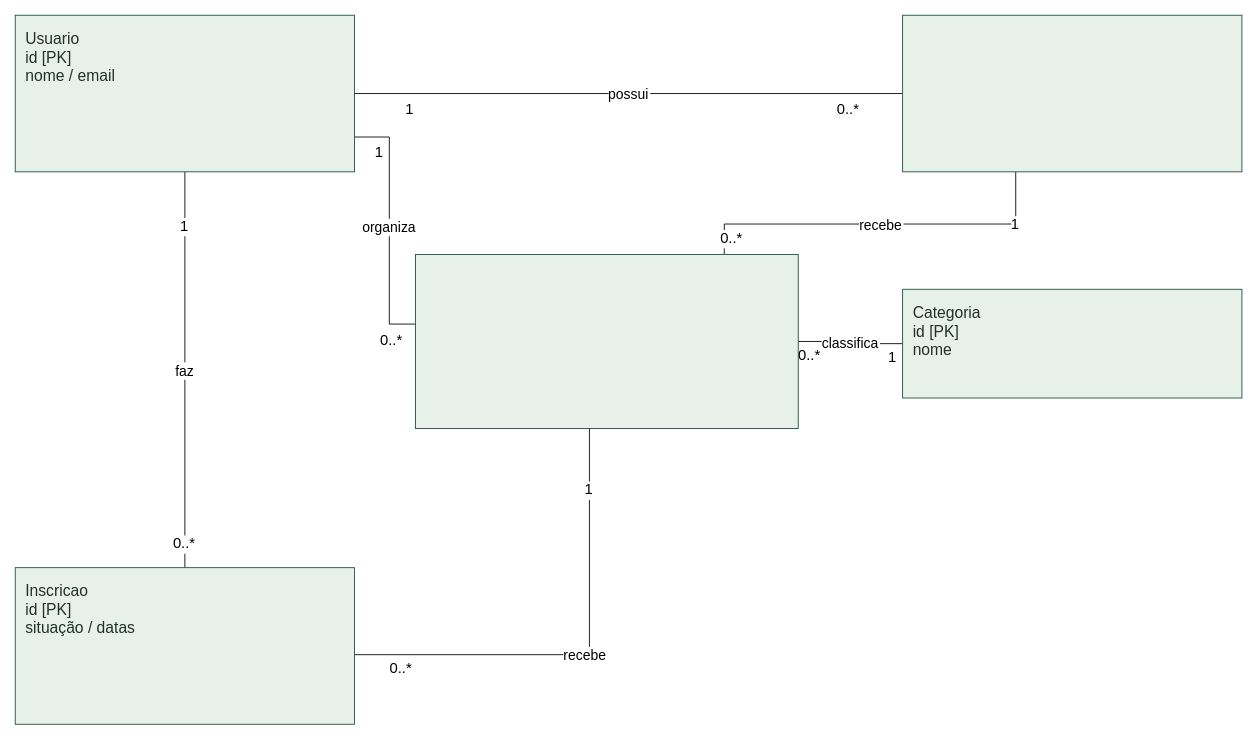
This 1257x740 diagram has some shape labels left out. The centre of each missing label's shape, as x and y in pixels:
Atividade id [PK] início / término / capacidade situação: the point at 606,341
Local id [PK] endereço / coordenadas: the point at 1072,93
